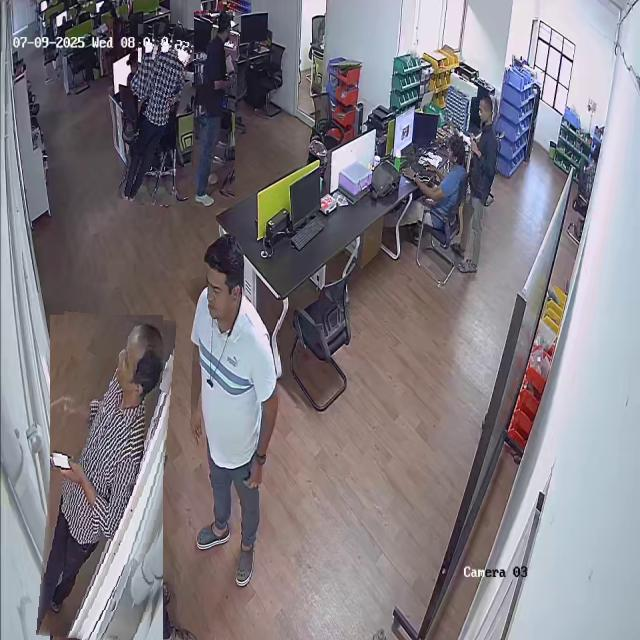person: (43, 313, 169, 640), (186, 238, 280, 590), (128, 23, 186, 206), (191, 10, 238, 208), (464, 97, 504, 281), (415, 136, 470, 209)
